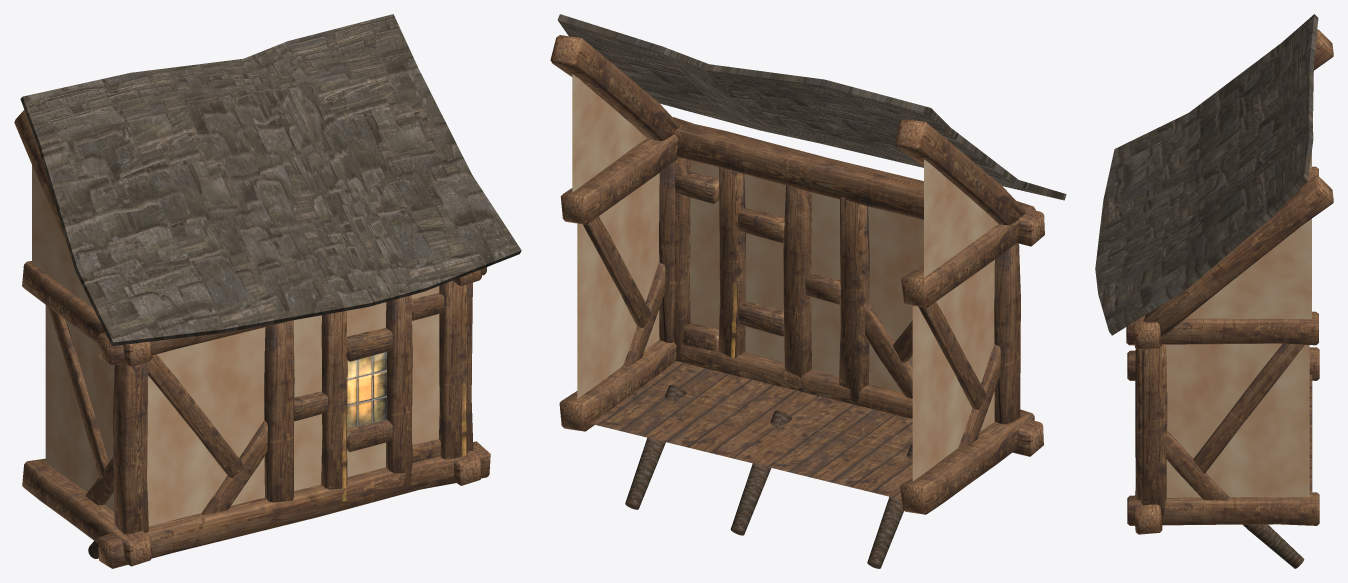
Rendered from Outbuilding 1.fbx.
The picture shows the model from 3 angles, left to right: view 1: azimuth 30°, elevation 25°; view 2: azimuth 150°, elevation 25°; view 3: azimuth 270°, elevation 25°; orthographic projection. The views are drawn at different scales.
Parts seen in each view (by area): view 1: 1 Outbuilding; view 2: 1 Outbuilding; view 3: 1 Outbuilding.
Part boxes in pixels (x1,y1,x2,y2): 1 Outbuilding: [14, 14, 521, 568]; 1 Outbuilding: [550, 14, 1066, 568]; 1 Outbuilding: [1095, 14, 1333, 568].
Bounding box in the file's own units: 5.08 × 5.63 × 2.88.
